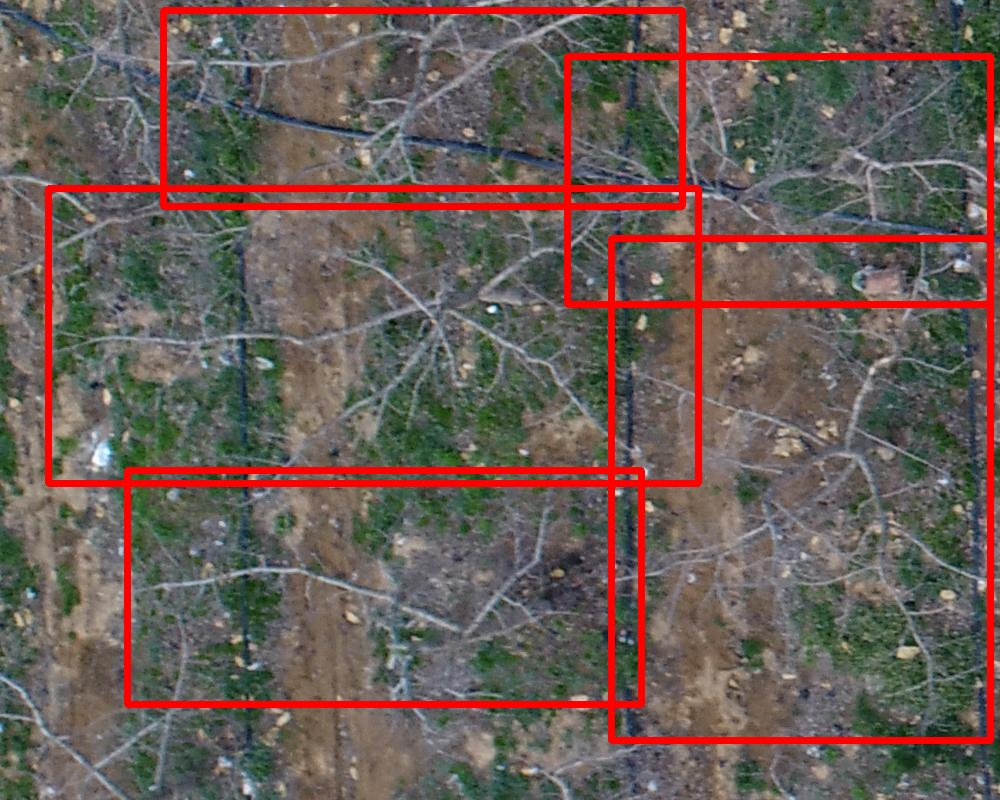apple: (48, 188, 698, 483), (611, 238, 990, 740), (127, 470, 641, 704), (567, 56, 990, 304), (163, 10, 682, 206)
